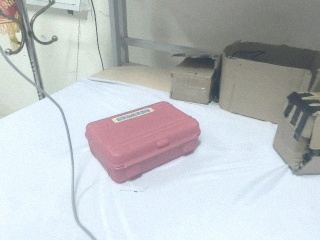box: (83, 101, 207, 184), (218, 41, 320, 125), (273, 92, 320, 174), (170, 55, 221, 103)
